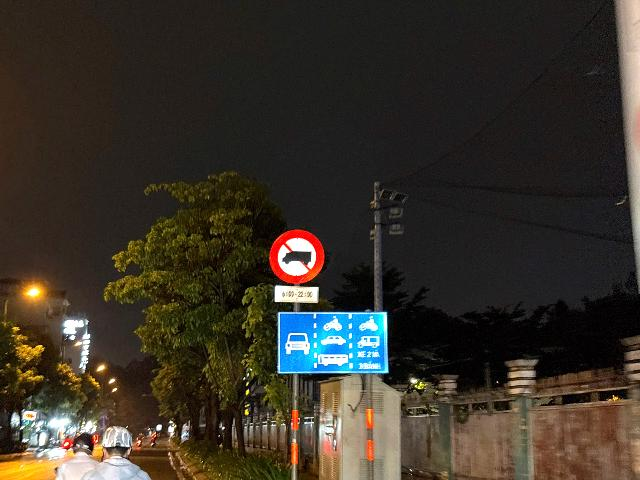cam-xe-tai: (269, 229, 326, 283)
